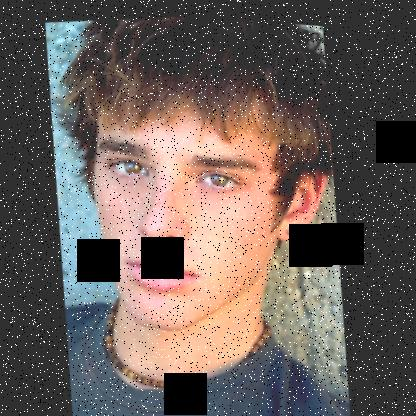Male: (73, 61, 349, 342)
